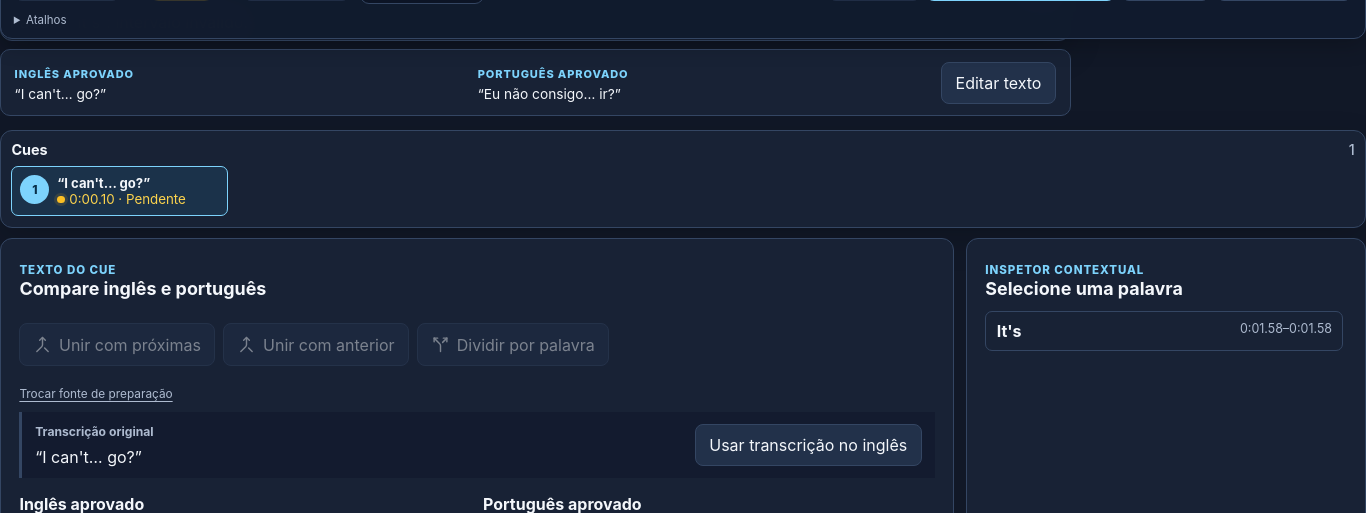
Test case: EditorialPage › does not play a zero-duration word and displays an explanation
(page scrolled)
Click the button "It's 0:01.58–0:01.58". click: coordinates (1261, 329)
box: [985,311,1343,351]
(page scrolled)
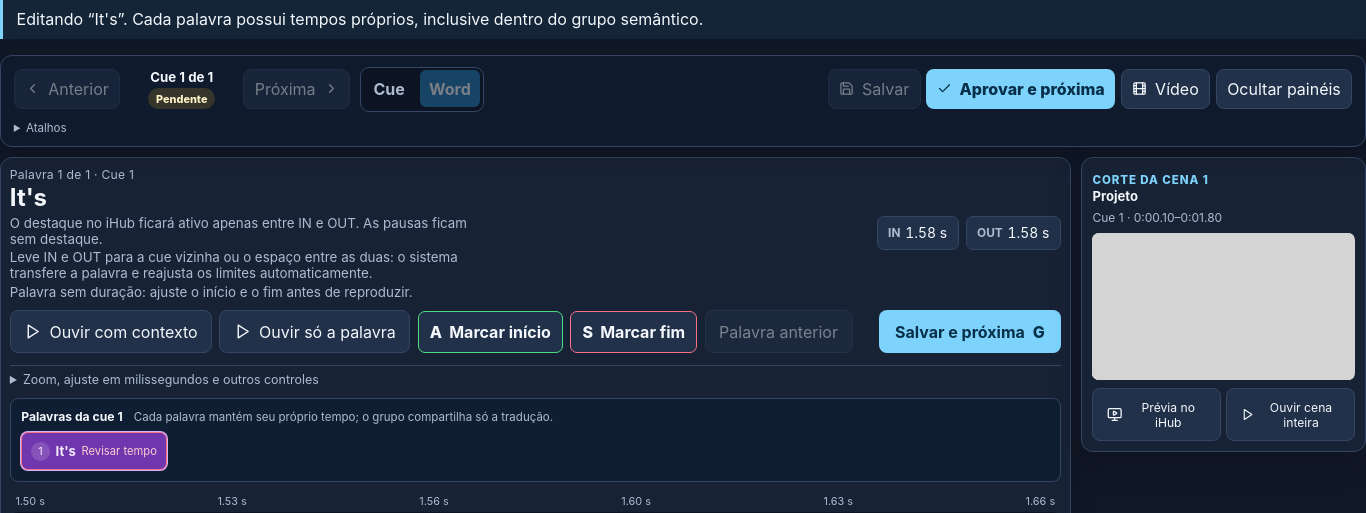
Check: the text "Palavra sem duração: ajuste o início e o fim antes de reproduzir." is shown, box [10,284,481,300]
Click the button with aria-label "Reproduzir palavra". click: coordinates (315, 332)
box: [220,310,410,353]
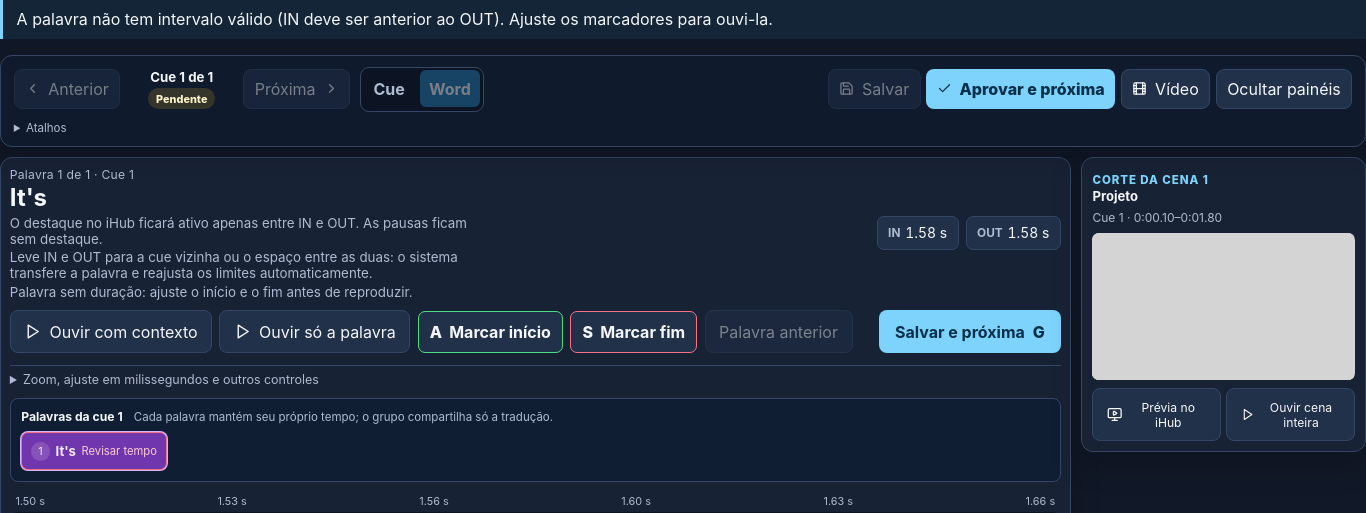
Check: the text "A palavra não tem intervalo válido" is shown, box [17,9,773,29]
